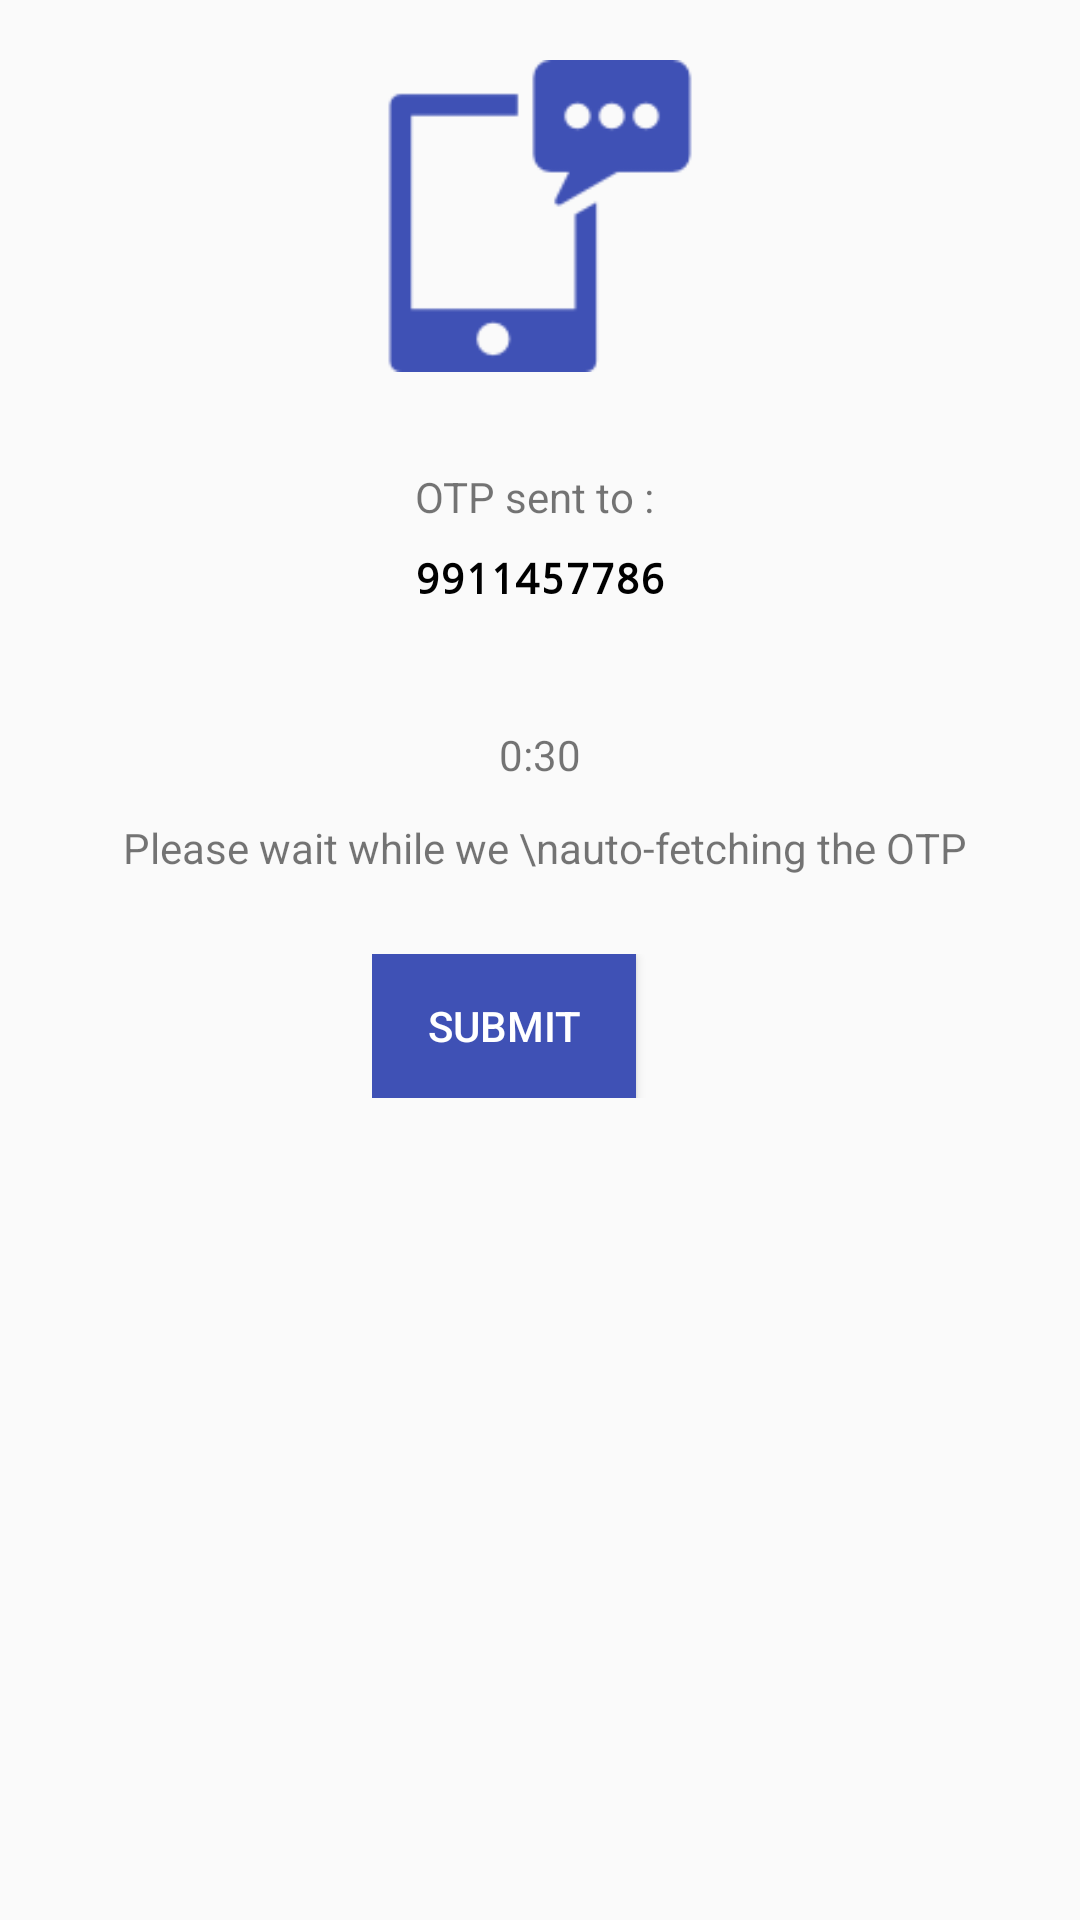

Locate icon controls on the screen. Image size 1080×1920, boxes as box=[x1, y1, x2, y2].
mobile otp: box=[388, 60, 692, 372]
